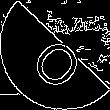O_NE: (22, 21, 88, 89)
